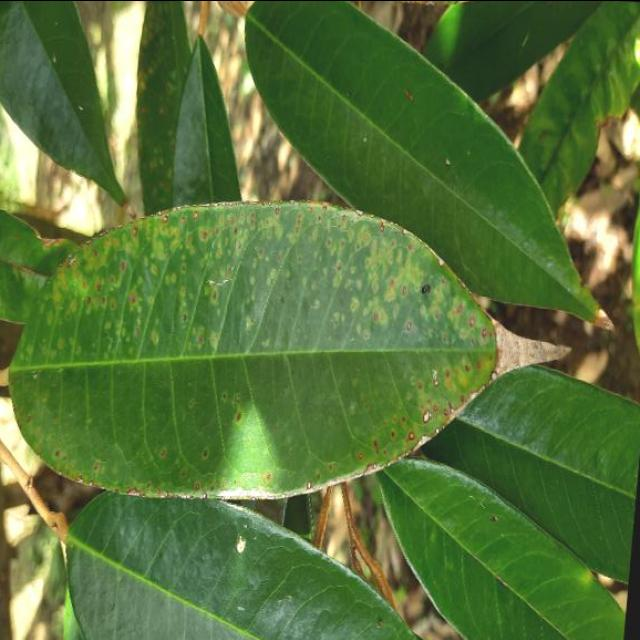Leaf Spot: (0, 168, 522, 536)
